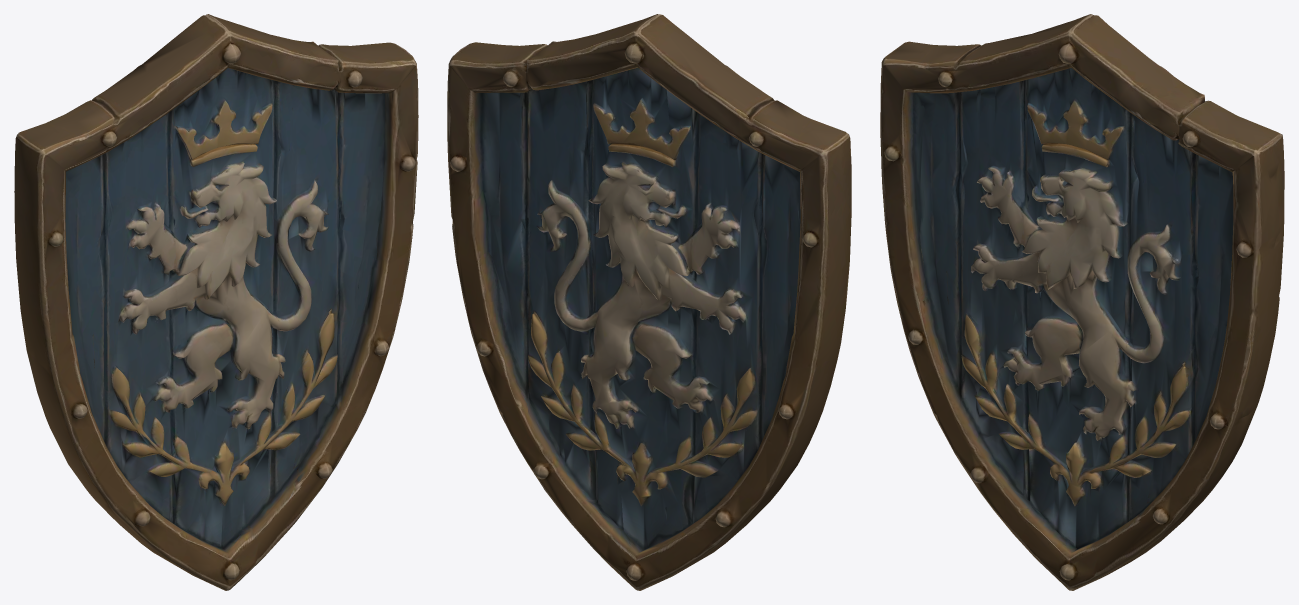
File: trim_shield.glb
The picture shows the model from 3 angles, left to right: view 1: azimuth 30°, elevation 25°; view 2: azimuth 150°, elevation 25°; view 3: azimuth 330°, elevation 25°; orthographic projection.
Visible parts, largest first — view 1: tripo_node_8fe4f45f-5ac9-40de-a90a-787dd9ad6721; view 2: tripo_node_8fe4f45f-5ac9-40de-a90a-787dd9ad6721; view 3: tripo_node_8fe4f45f-5ac9-40de-a90a-787dd9ad6721.
Part boxes in pixels (left/top/right/bottom): tripo_node_8fe4f45f-5ac9-40de-a90a-787dd9ad6721: left=14, top=14, right=418, bottom=590; tripo_node_8fe4f45f-5ac9-40de-a90a-787dd9ad6721: left=447, top=14, right=851, bottom=590; tripo_node_8fe4f45f-5ac9-40de-a90a-787dd9ad6721: left=880, top=14, right=1284, bottom=590.
Bounding box in the file's own units: 0.6997 × 0.9797 × 0.1216.
1 material, 1 textured.
